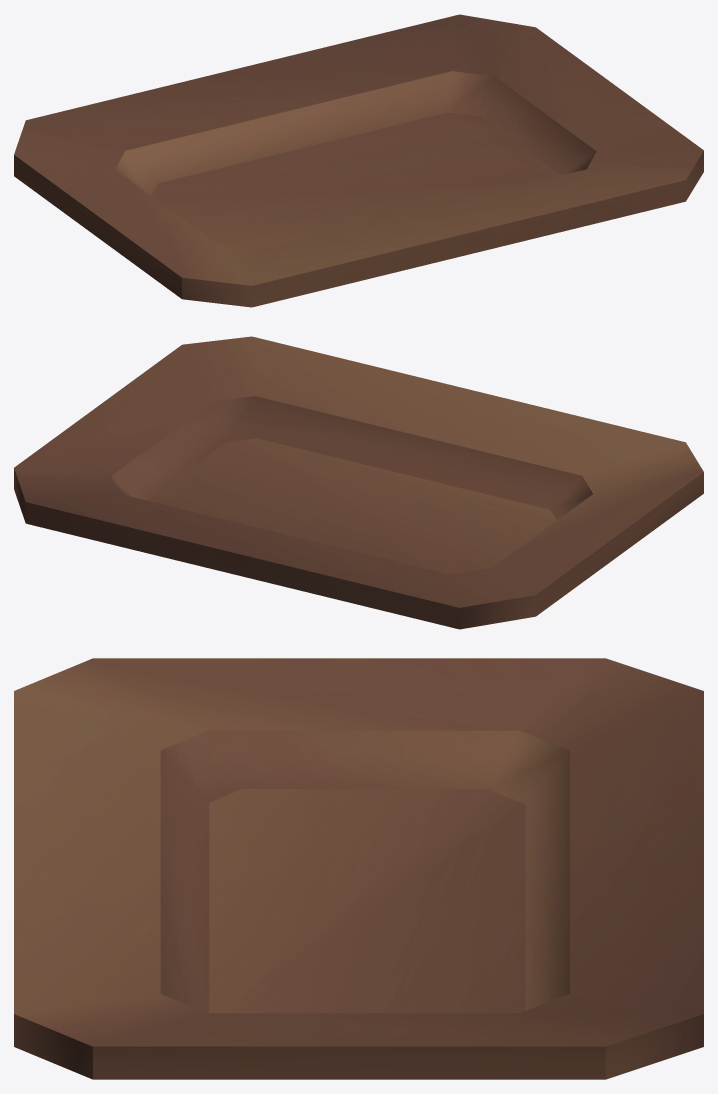
The model's file is plate_wood_oval.fbx.
3 views of the same model, one above another, from view 1: azimuth 30°, elevation 25°; view 2: azimuth 150°, elevation 25°; view 3: azimuth 270°, elevation 25° (orthographic). The views are drawn at different scales.
Parts seen in each view (by area): view 1: plate_wood_oval; view 2: plate_wood_oval; view 3: plate_wood_oval.
Part boxes in pixels (box(x1,y1,x2,y2)): plate_wood_oval: box(14, 14, 703, 307); plate_wood_oval: box(14, 336, 703, 629); plate_wood_oval: box(14, 658, 703, 1079).
Size of the model in its own units: 75.85 by 6.82 by 56.95.
